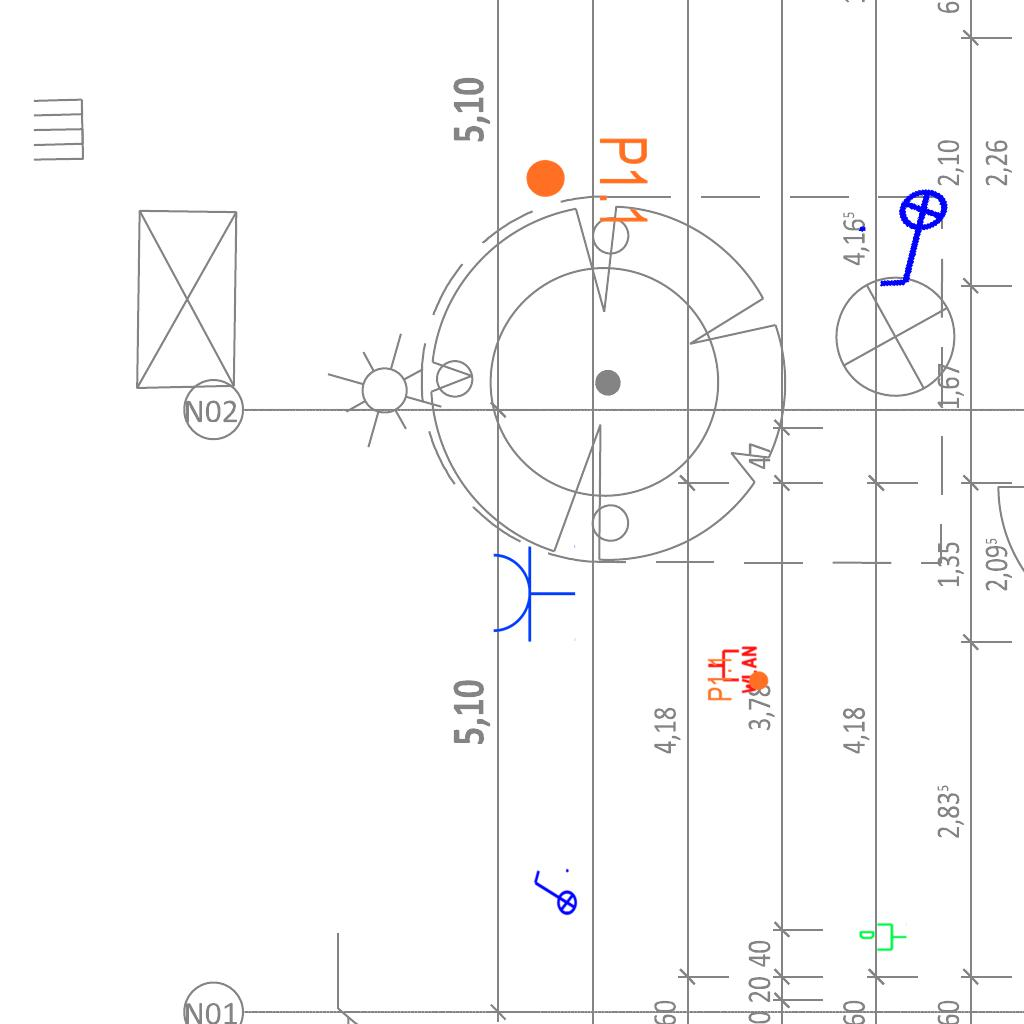Ausschalter_beleuchtet: (846, 177, 984, 303), (530, 866, 578, 922)
Datenanschluss_einfach: (858, 921, 908, 955)
Downlight_LED_Einbauleuchten_Flur: (523, 135, 651, 228), (706, 656, 770, 702)
Schukosteckdose_einfach: (489, 543, 576, 643)
WLAN: (706, 644, 758, 696)
